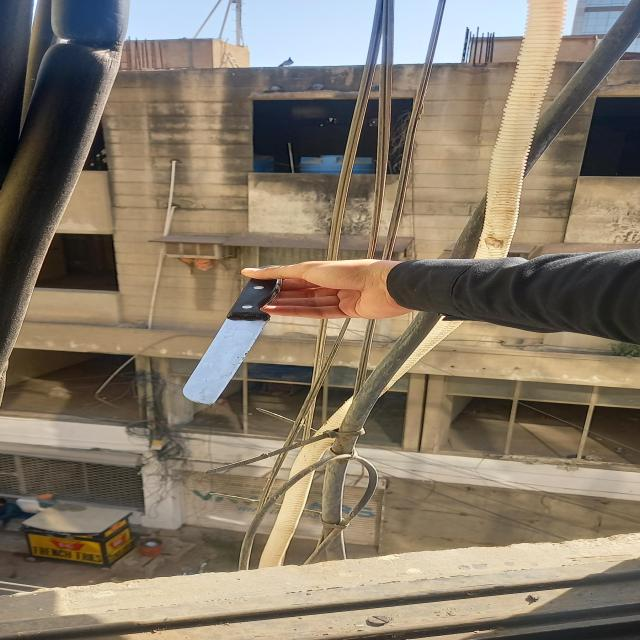Knife: (170, 263, 286, 405)
